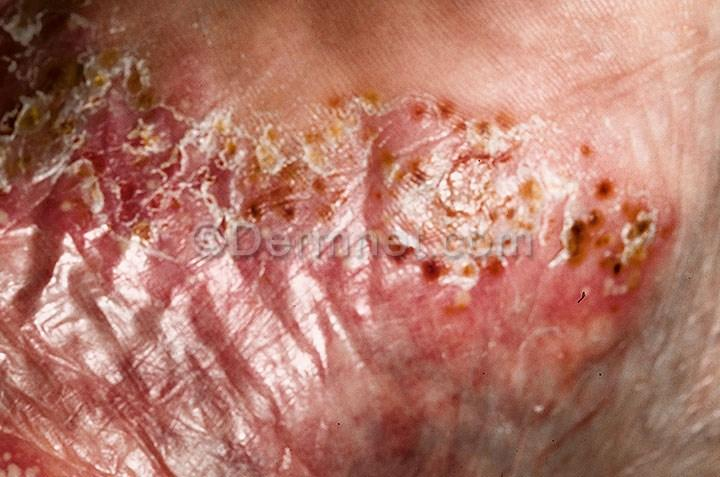Eczema: (1, 0, 720, 477)
